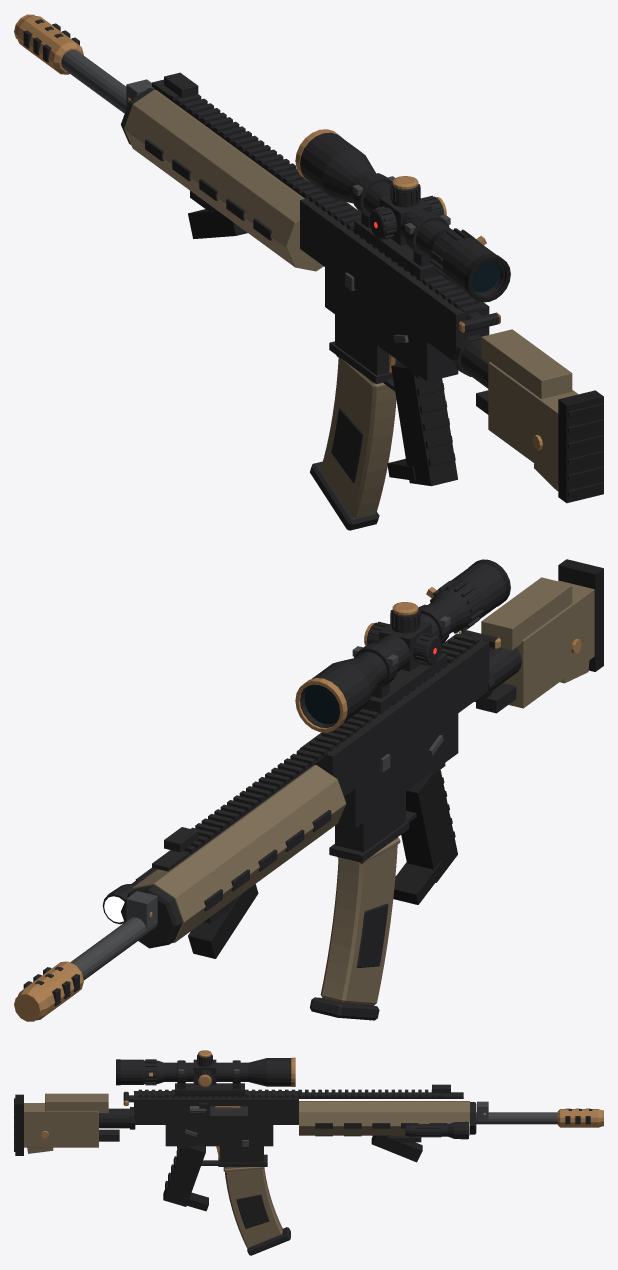
Rendered from rifle_v2.glb.
The picture shows the model from 3 angles, top to bottom: view 1: azimuth 30°, elevation 25°; view 2: azimuth 150°, elevation 25°; view 3: azimuth 270°, elevation 25°; orthographic projection. The views are drawn at different scales.
Parts seen in each view (by area): view 1: Rifle_Body, Rifle_Mag; view 2: Rifle_Body, Rifle_Mag; view 3: Rifle_Body, Rifle_Mag.
Boxes of the visible parts, <box> form: Rifle_Body: <box>14,14,603,503</box>; Rifle_Mag: <box>310,355,396,530</box>; Rifle_Body: <box>14,559,603,1021</box>; Rifle_Mag: <box>310,837,400,1020</box>; Rifle_Body: <box>14,1050,603,1211</box>; Rifle_Mag: <box>223,1167,290,1255</box>.
Size of the model in its own units: 0.0807 by 0.3477 by 0.93.
